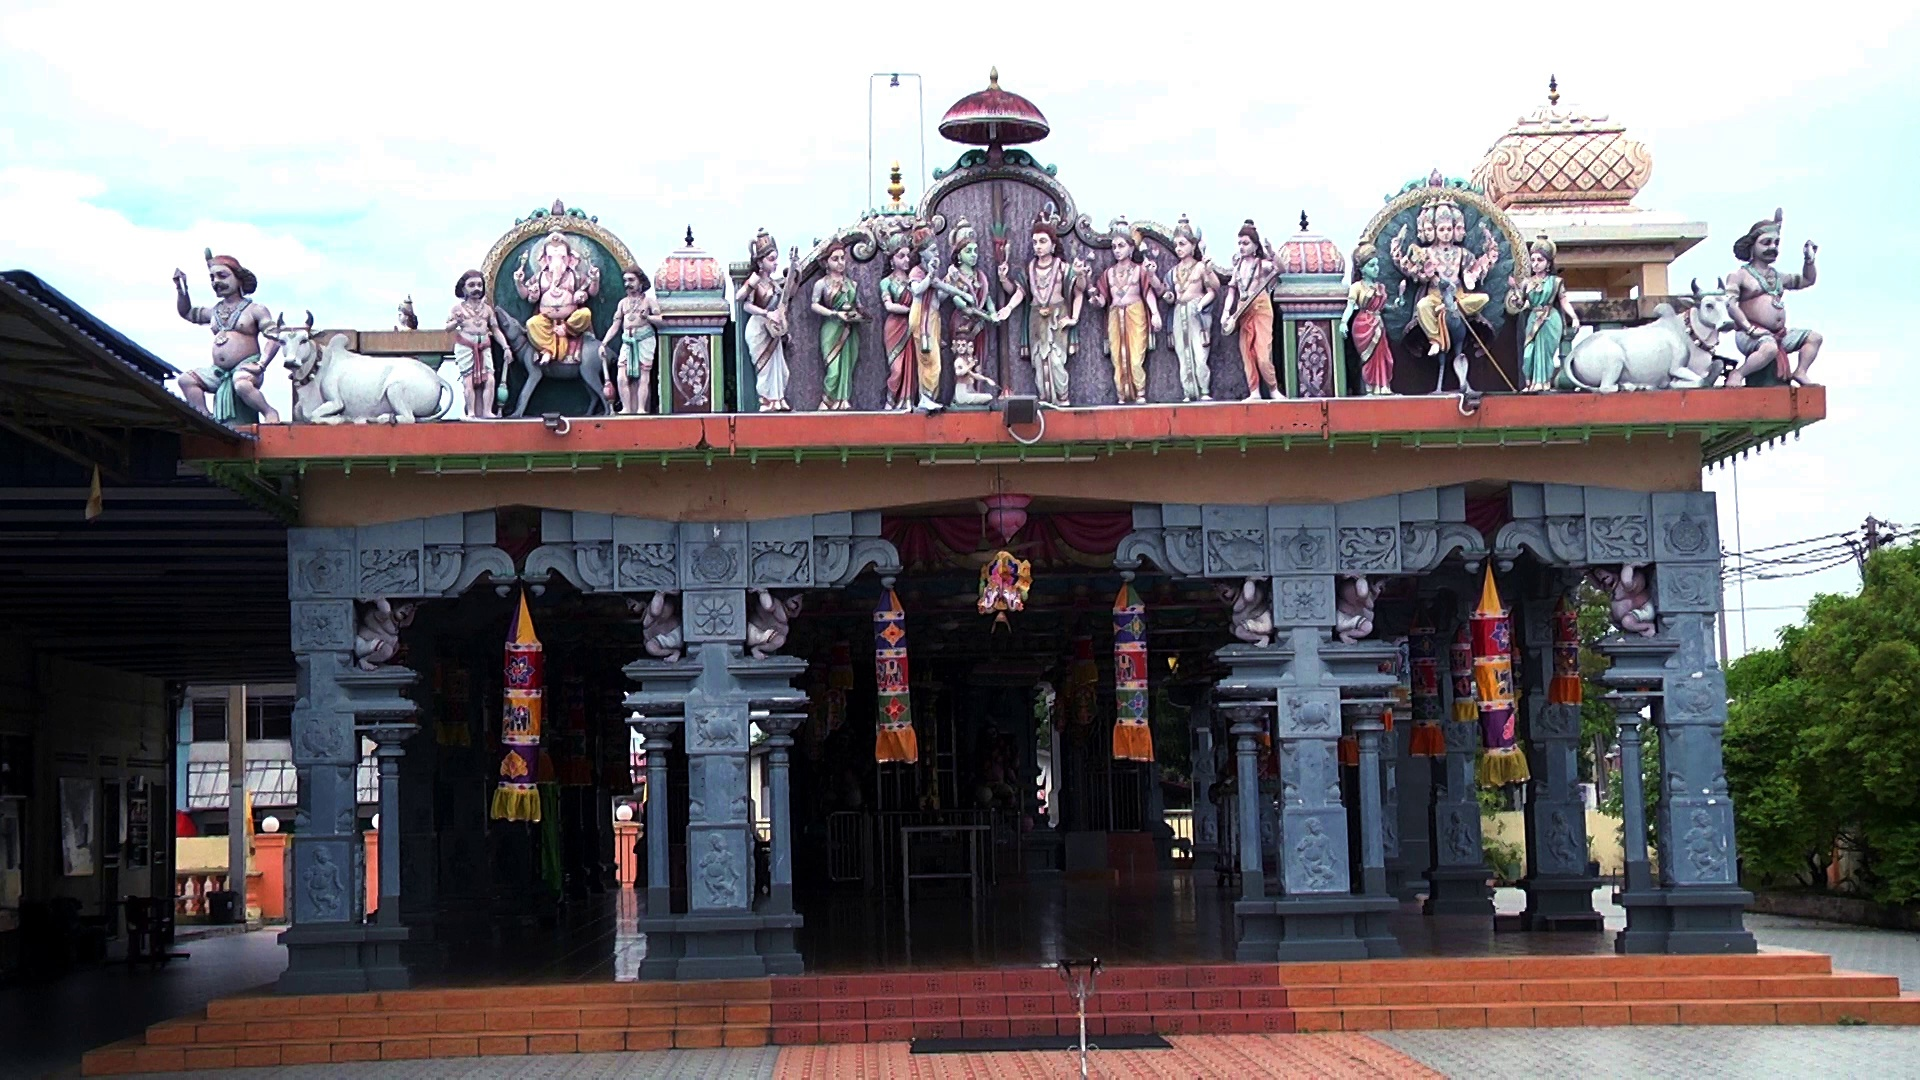Hindu Temple: (191, 112, 1737, 902)
